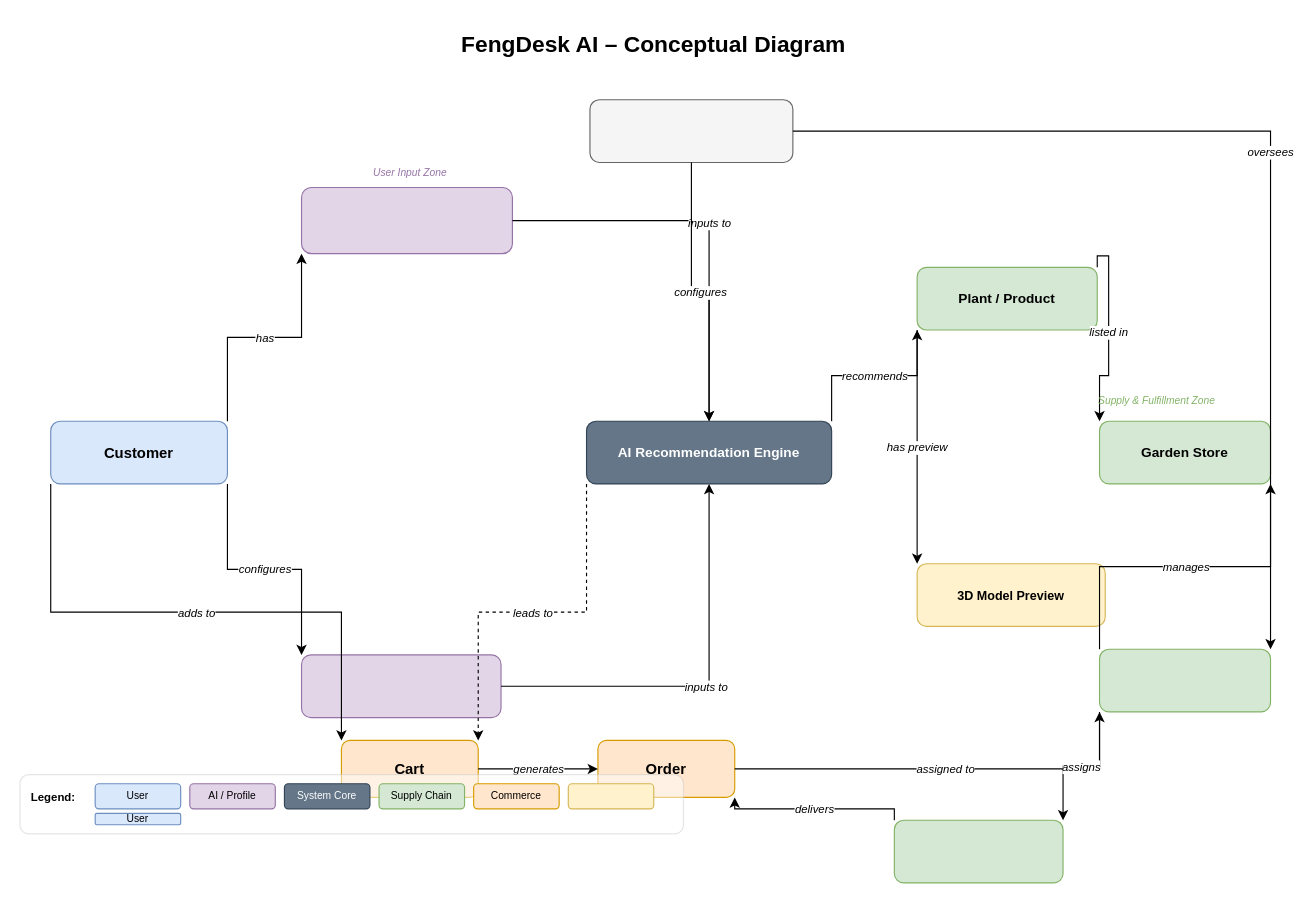
Image size: 1313x903. Some labels were removed from this diagram. The centre of each missing label's shape, as x and y in pixels:
Admin & Manager: point 691,130
Feng Shui Profile (Five Elements): point 406,220
Garden Owner: point 1184,680
Garden Staff: point 978,851
Visualization: point 610,796
Workspace Profile: point 400,686
